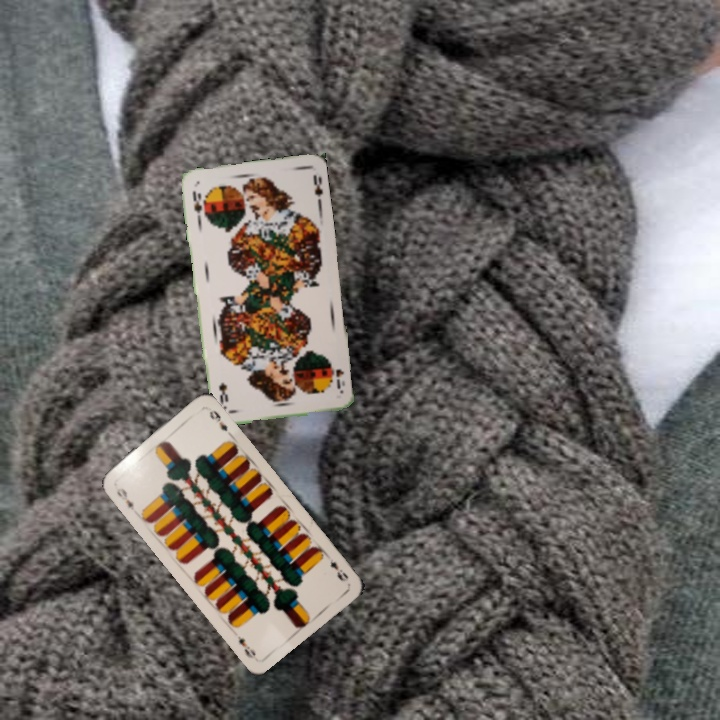E9: (326, 555, 351, 584), (112, 484, 137, 513)
SO: (189, 187, 205, 223), (332, 365, 348, 392)
